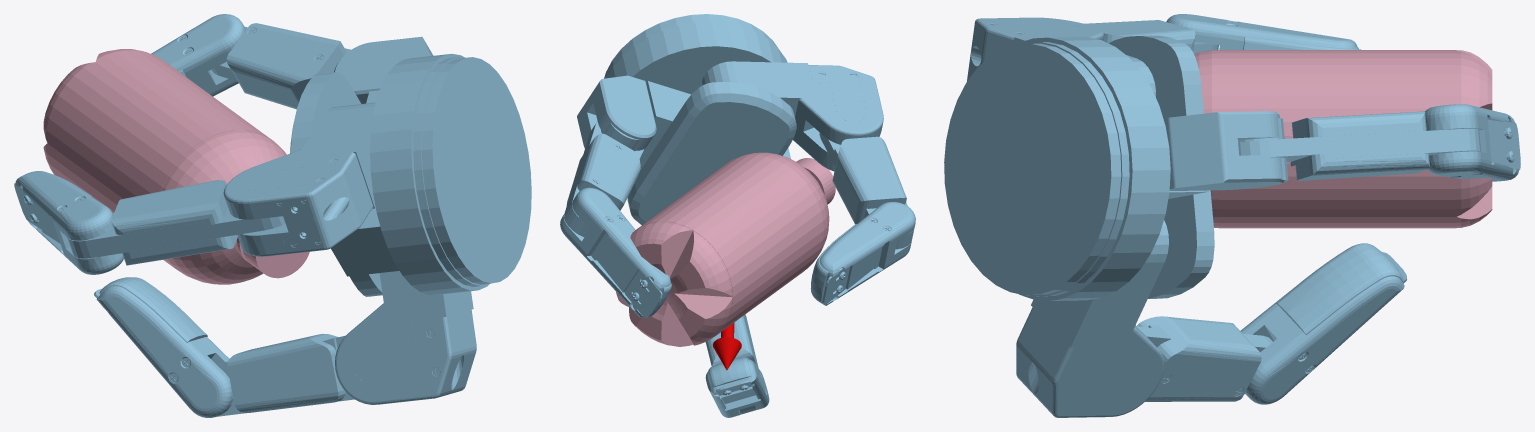
The picture shows the model from 3 angles, left to right: view 1: azimuth 30°, elevation 25°; view 2: azimuth 150°, elevation 25°; view 3: azimuth 270°, elevation 25°; orthographic projection. The views are drawn at different scales.
Parts seen in each view (by area): view 1: world, water_bottle.stl; view 2: world, water_bottle.stl; view 3: world, water_bottle.stl.
Part boxes in pixels (x1=…): world: x1=14, y1=14, x2=531, y2=417; water_bottle.stl: x1=43, y1=49, x2=309, y2=284; world: x1=560, y1=14, x2=915, y2=417; water_bottle.stl: x1=616, y1=152, x2=835, y2=346; world: x1=944, y1=14, x2=1520, y2=417; water_bottle.stl: x1=1194, y1=50, x2=1492, y2=228.
Bounding box in the file's own units: 0.1805 × 0.1581 × 0.1947.
